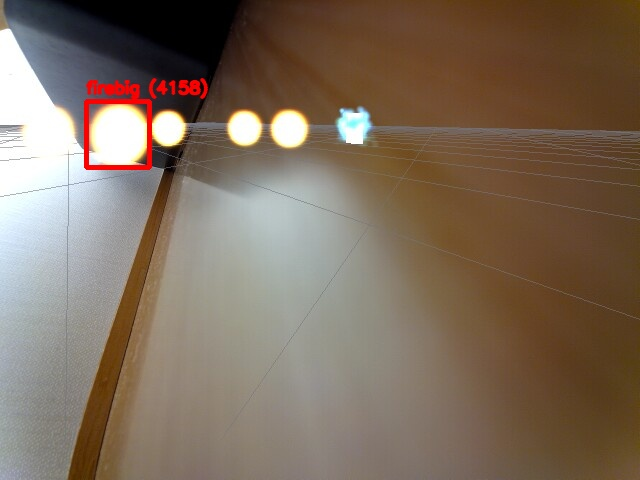firebig: (86, 101, 149, 167)
